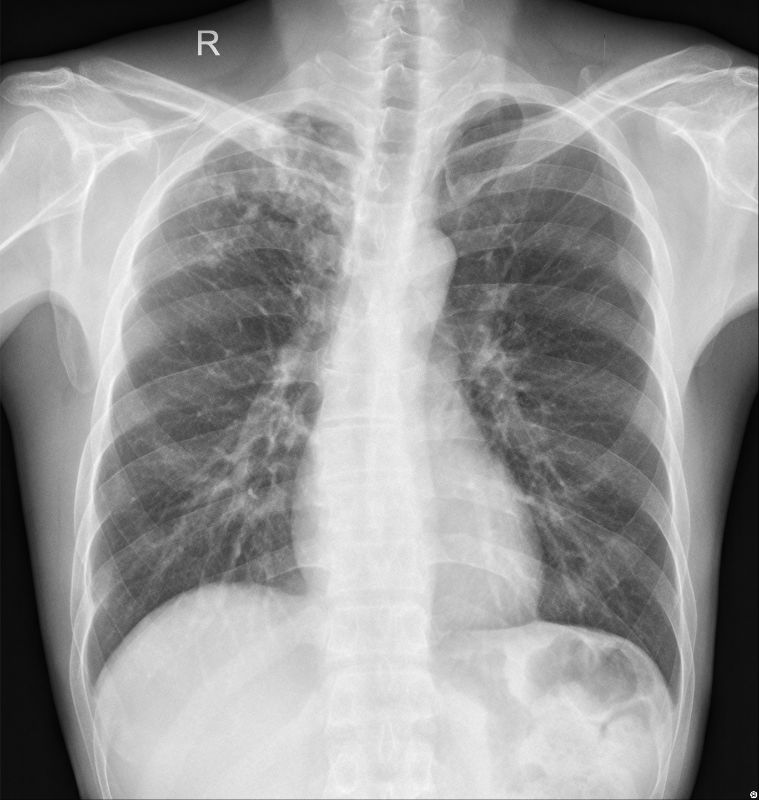Tuberculosis (TB): (198, 132, 342, 275)
